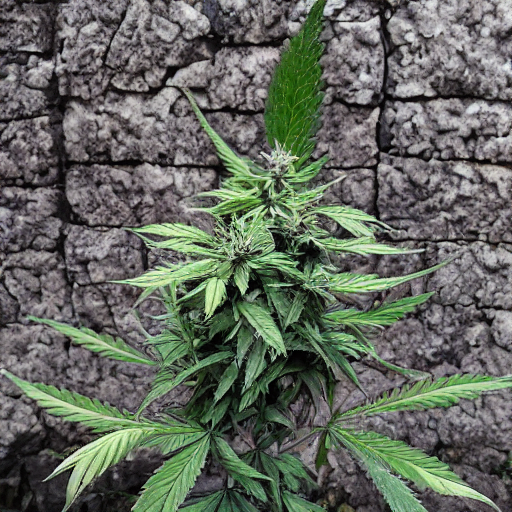Marijuana Joint: (18, 10, 512, 512)
